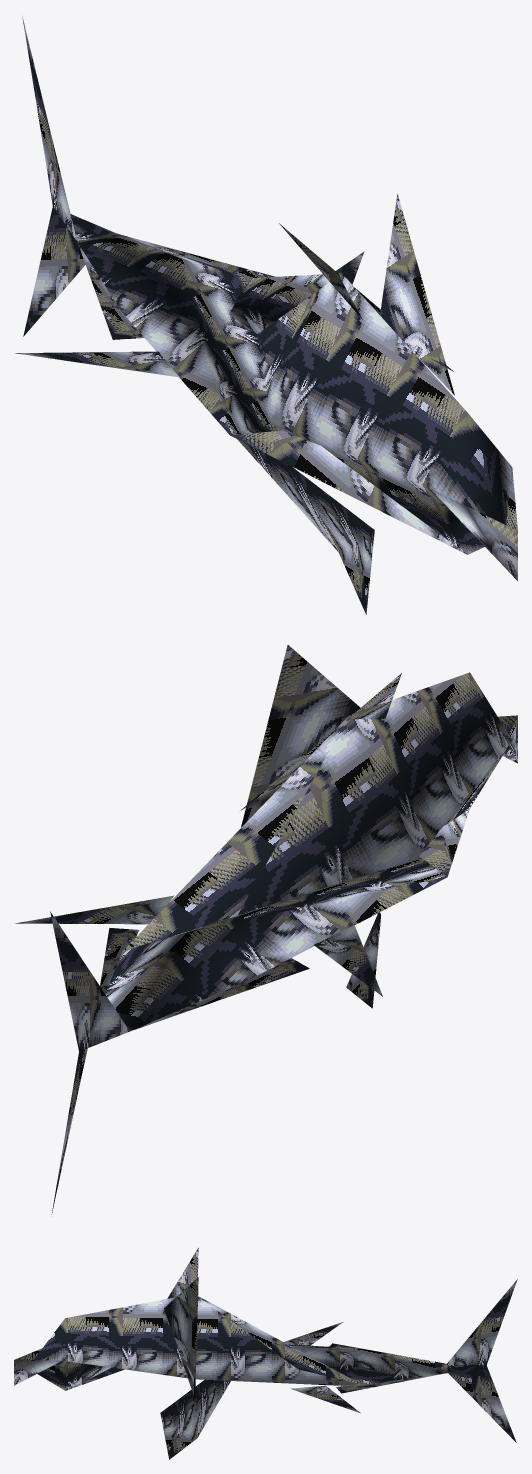
The model's file is 4818fish28.gltf.
The picture shows the model from 3 angles, top to bottom: view 1: azimuth 30°, elevation 25°; view 2: azimuth 150°, elevation 25°; view 3: azimuth 270°, elevation 25°; orthographic projection. The views are drawn at different scales.
Visible parts, largest first — view 1: 4818fish28; view 2: 4818fish28; view 3: 4818fish28.
Boxes of the visible parts, x1,y1,x2,y2 form: 4818fish28: (15, 16, 517, 614); 4818fish28: (15, 645, 517, 1214); 4818fish28: (14, 1247, 517, 1459).
Bounding box in the file's own units: 0.4321 × 0.4341 × 1.
1 material, 1 textured.
